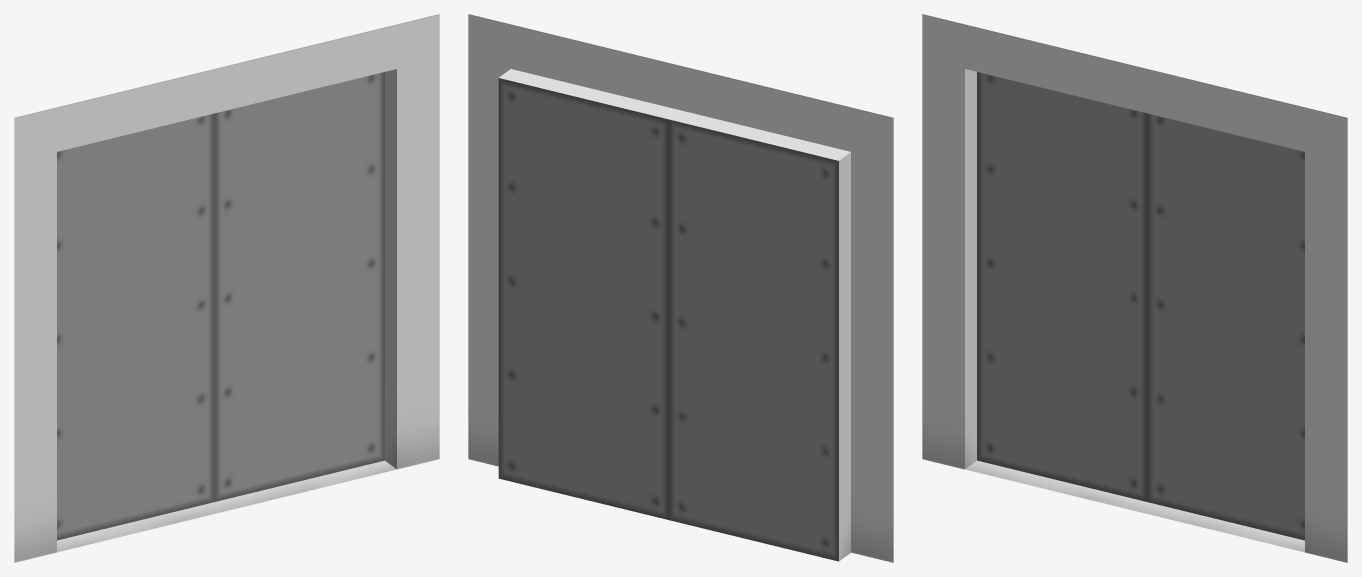
The model's file is WallWithDoors.fbx.
3 views of the same model, side by side, from view 1: azimuth 30°, elevation 25°; view 2: azimuth 150°, elevation 25°; view 3: azimuth 330°, elevation 25° (orthographic).
Parts seen in each view (by area): view 1: WallWithDoors; view 2: WallWithDoors; view 3: WallWithDoors.
Boxes of the visible parts, x1,y1,x2,y2 form: WallWithDoors: [14, 14, 439, 562]; WallWithDoors: [468, 14, 893, 562]; WallWithDoors: [922, 14, 1347, 562].
Bounding box in the file's own units: 200 × 200 × 10.
